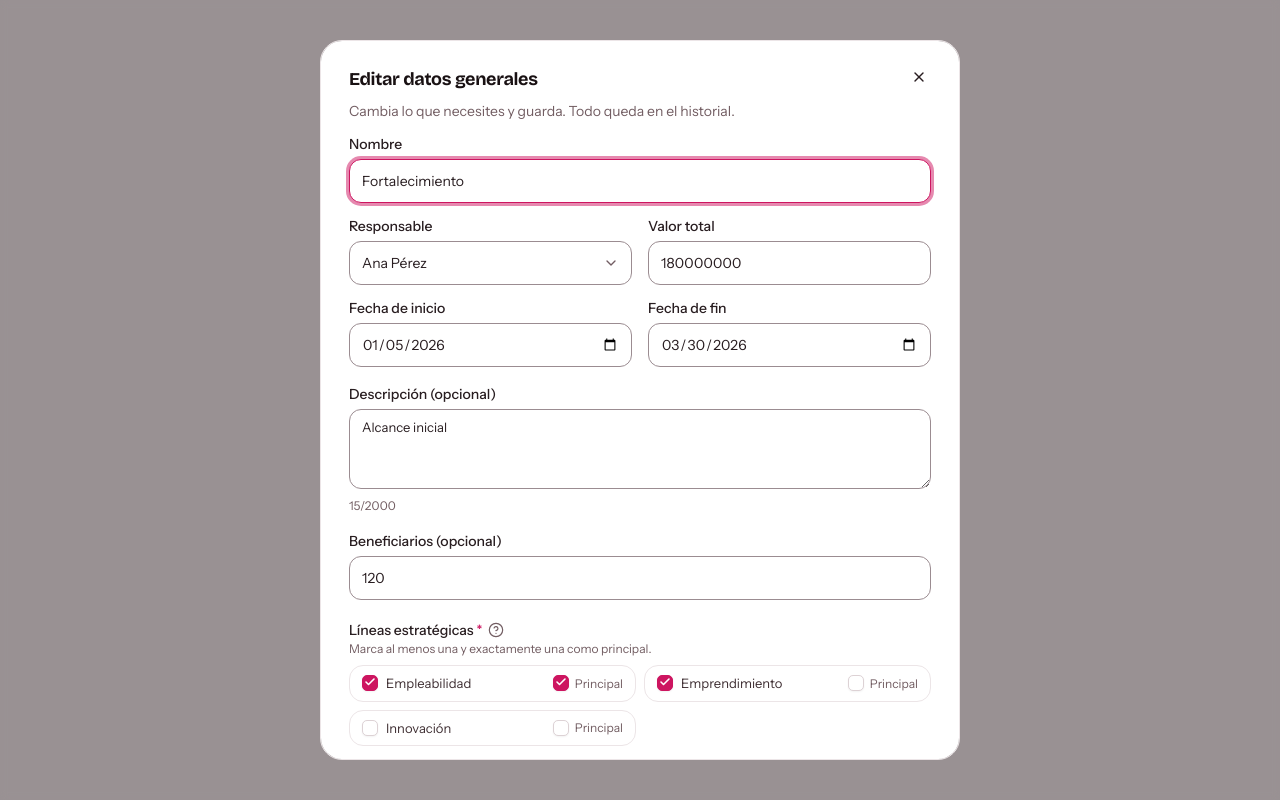
Scenario: EditarDatosGenerales › BORRADOR › requires exactly one principal line and at least one municipio
What coordinates should you click on to do the following:
click the checkbox named "Principal Empleabilidad"
I would click on:
 (561, 683)
Its box is [553,675,569,691].
(page scrolled)
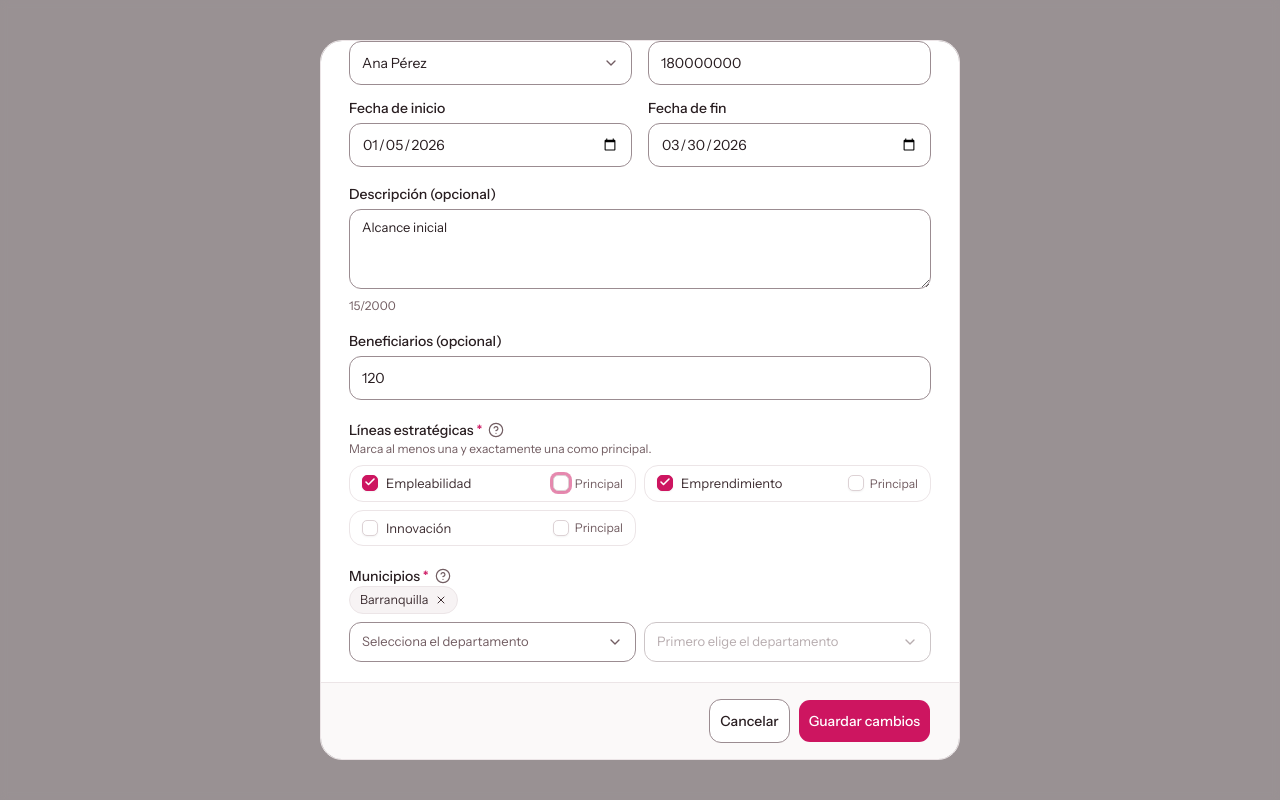
What coordinates should you click on to do the following:
click the button "Guardar cambios"
I would click on:
 (864, 721)
Its box is [798,699,931,743].
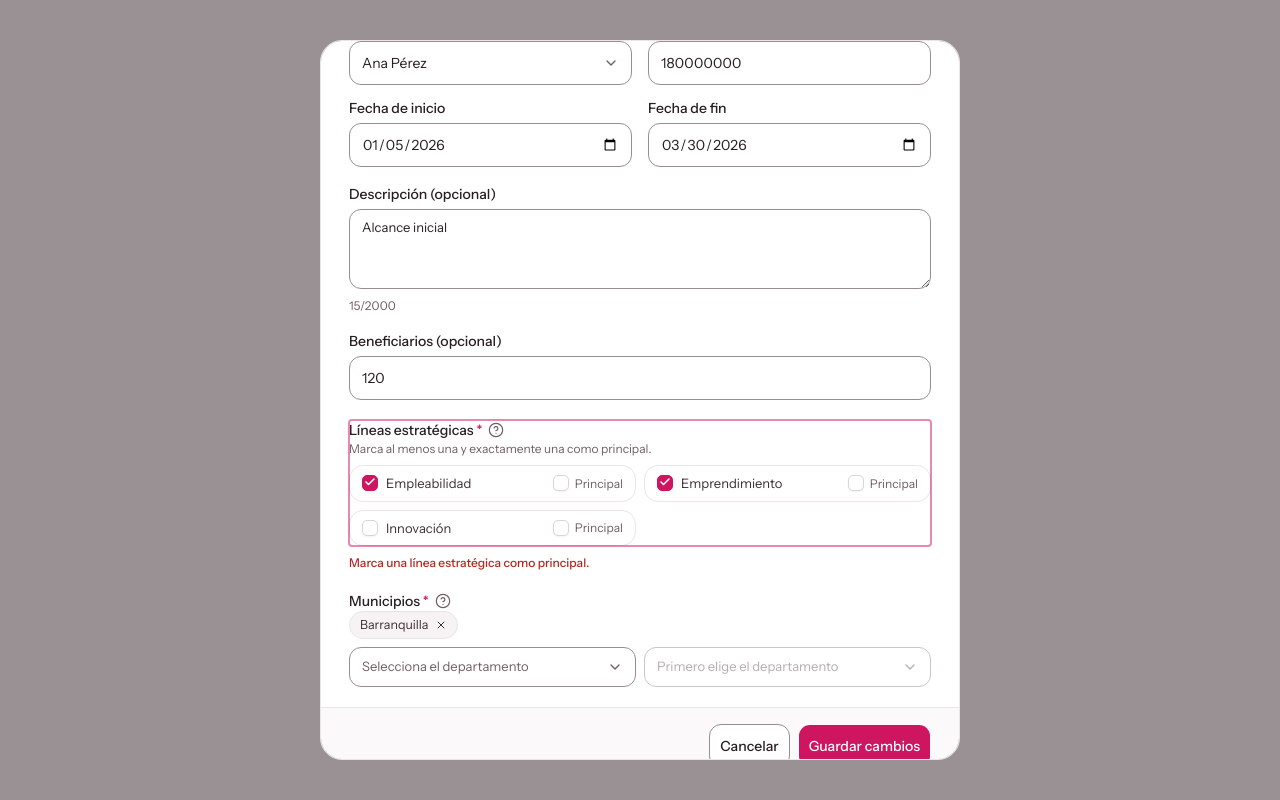
Expected: the message reads "Marca una línea estratégica como principal.", [349,555,589,570]
What coordinates should you click on to do the following:
click the checkbox named "Principal Empleabilidad"
I would click on:
 (561, 483)
Its box is [553,475,569,491].
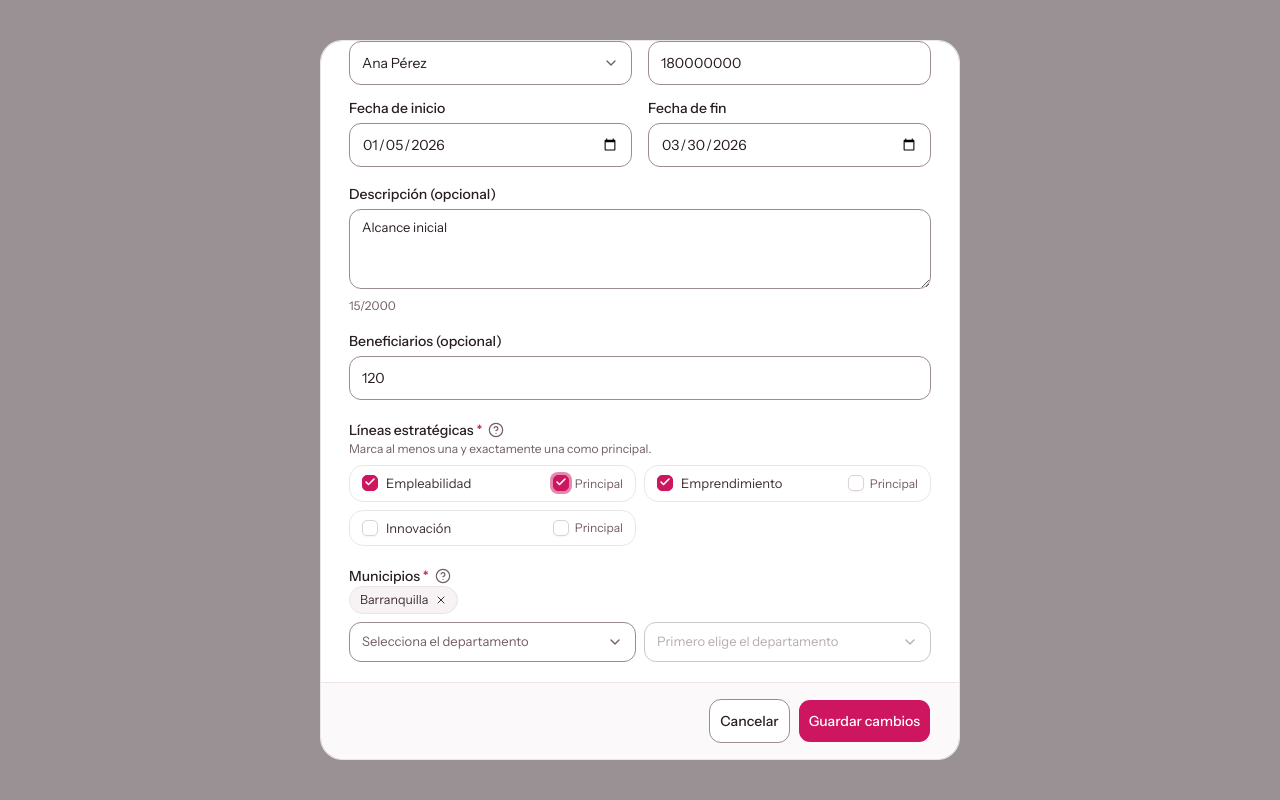
El proyecto ya tiene Barranquilla: se quita con su chip para dejar la selección vacía.
What coordinates should you click on to do the following:
click the button with aria-label "Quitar Barranquilla"
I would click on:
 (403, 600)
Its box is [349,586,458,614].
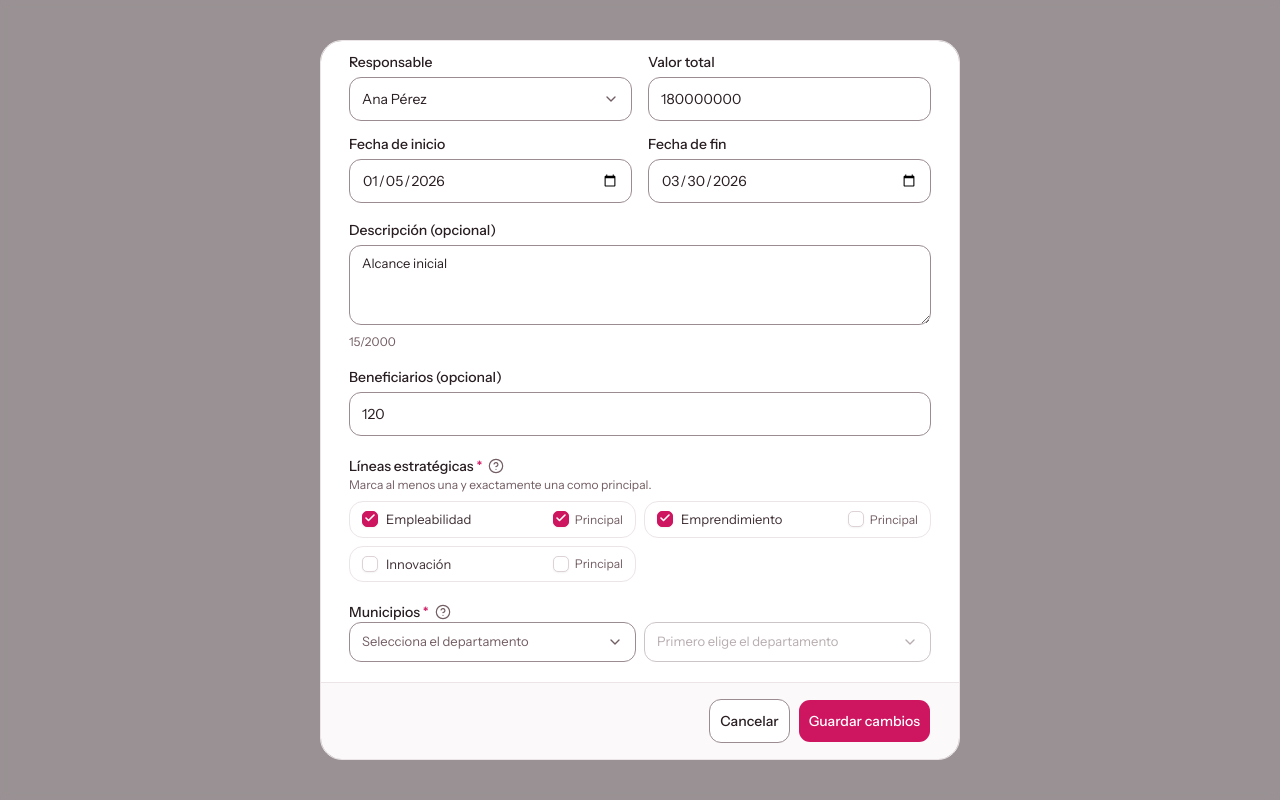
What coordinates should you click on to do the following:
click the button "Guardar cambios"
I would click on:
 (864, 721)
Its box is [798,699,931,743].
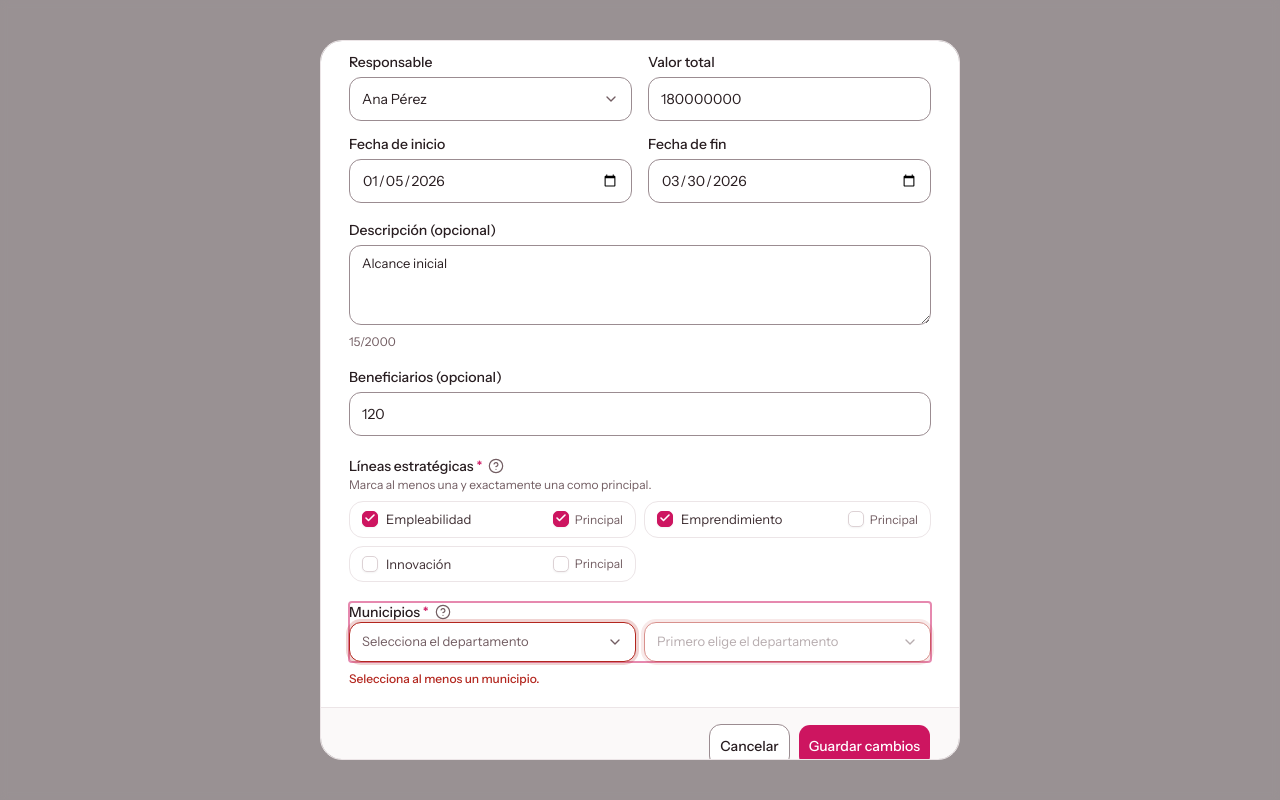
Expected: the message reads "Selecciona al menos un municipio.", [349,671,539,686]
